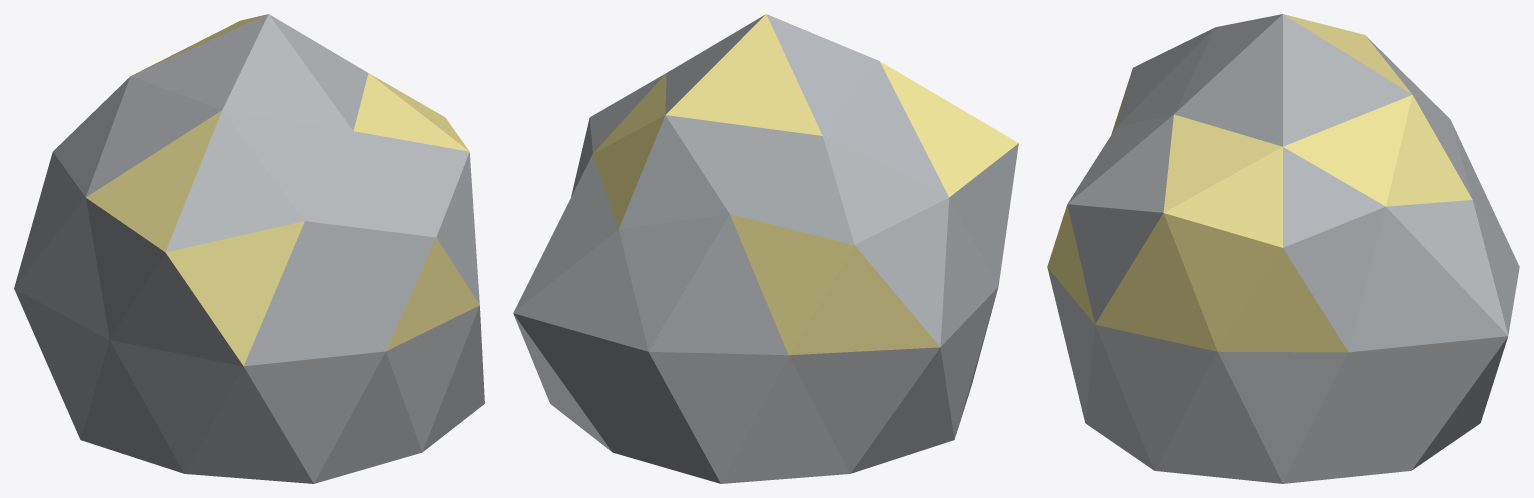
Rendered from SM_SulfurOreNode.fbx.
3 views of the same model, side by side, from view 1: azimuth 30°, elevation 25°; view 2: azimuth 150°, elevation 25°; view 3: azimuth 270°, elevation 25° (orthographic).
Parts seen in each view (by area): view 1: SM_SulfurOreNode; view 2: SM_SulfurOreNode; view 3: SM_SulfurOreNode.
Boxes of the visible parts, bbox=[...] form: SM_SulfurOreNode: bbox=[14, 14, 484, 483]; SM_SulfurOreNode: bbox=[513, 14, 1018, 483]; SM_SulfurOreNode: bbox=[1047, 14, 1519, 483].
Size of the model in its own units: 13460 by 13922 by 12424.
